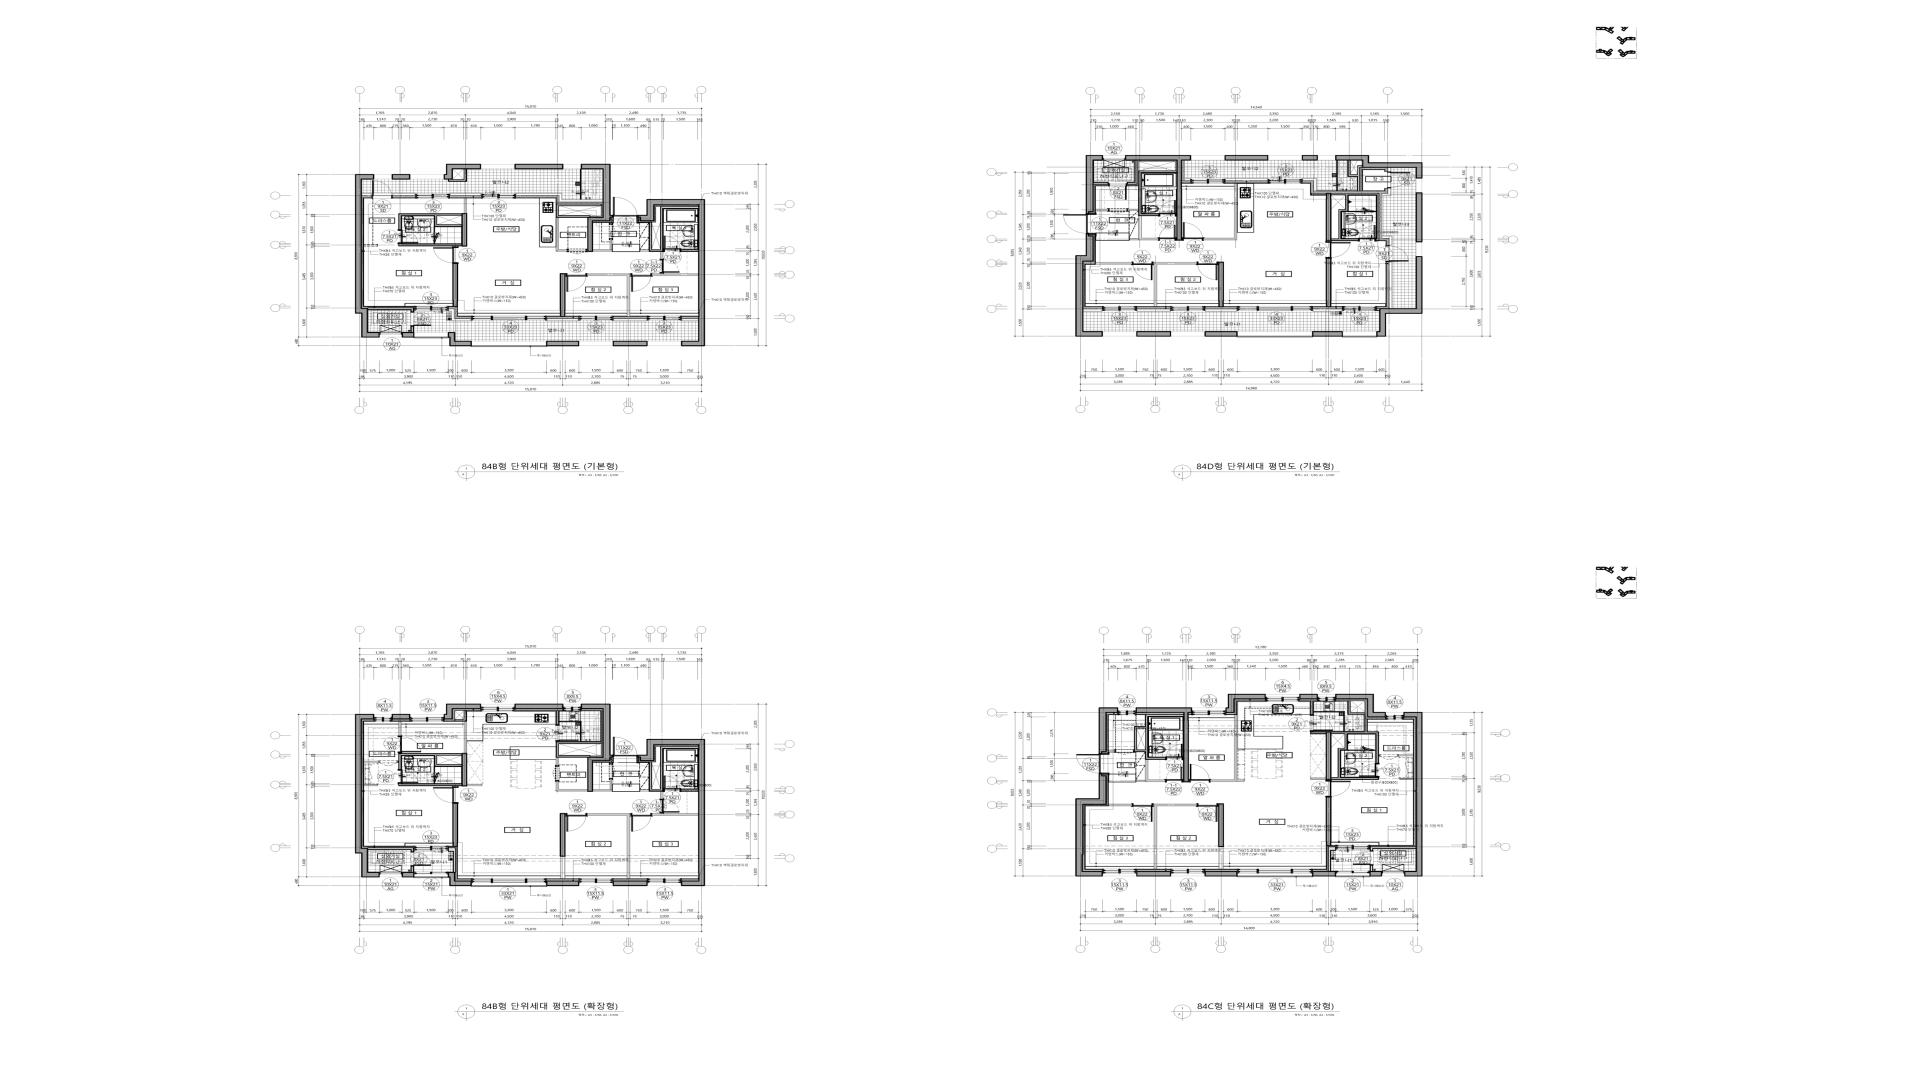door: (1063, 214, 1097, 233), (1076, 754, 1109, 774), (613, 196, 637, 218), (1325, 779, 1352, 798), (433, 786, 459, 804), (613, 737, 637, 757), (433, 247, 459, 264), (1325, 241, 1350, 258), (1197, 261, 1218, 281), (1133, 261, 1154, 281), (1182, 223, 1204, 241), (1188, 764, 1211, 782), (397, 736, 421, 753), (630, 273, 651, 291), (566, 273, 587, 291), (1197, 803, 1218, 822), (630, 814, 651, 832), (566, 814, 587, 832), (1133, 803, 1154, 822), (372, 181, 393, 199), (1387, 171, 1410, 189), (1386, 245, 1408, 262), (1309, 715, 1333, 731), (555, 725, 579, 741), (1109, 183, 1127, 200), (1353, 851, 1374, 865), (410, 852, 431, 866), (397, 769, 418, 783), (397, 229, 418, 244), (663, 775, 680, 793), (1166, 766, 1183, 783), (1166, 744, 1183, 761), (1158, 200, 1176, 216), (659, 260, 679, 274), (659, 799, 679, 814), (1358, 225, 1375, 241), (1159, 225, 1176, 241), (663, 236, 680, 252), (1360, 764, 1379, 777), (567, 249, 587, 255), (1379, 754, 1399, 760), (1114, 749, 1134, 754), (609, 764, 616, 779), (378, 761, 398, 766), (1108, 208, 1127, 214), (553, 766, 559, 781)
wall: (637, 199, 705, 347), (637, 738, 705, 886), (1125, 156, 1191, 241), (1135, 707, 1192, 782), (355, 174, 380, 338), (355, 713, 380, 877), (1377, 256, 1423, 336), (1127, 170, 1176, 240), (1134, 715, 1183, 782), (1403, 712, 1423, 877), (1075, 774, 1106, 877), (640, 746, 699, 799), (580, 164, 613, 252), (580, 704, 613, 793), (1332, 719, 1379, 779), (587, 814, 630, 878), (1154, 804, 1197, 869), (1076, 233, 1102, 336), (640, 207, 699, 252), (1332, 193, 1379, 241), (1211, 715, 1245, 782), (555, 204, 601, 252), (1336, 156, 1423, 178), (1154, 262, 1197, 306), (1204, 183, 1237, 240), (587, 274, 630, 316), (1336, 694, 1386, 717), (555, 741, 601, 766), (1085, 156, 1104, 214), (398, 753, 462, 769), (398, 214, 462, 229), (1098, 707, 1118, 754), (1225, 694, 1266, 713), (516, 193, 603, 202), (443, 164, 481, 179), (443, 704, 481, 720), (1382, 189, 1393, 245), (455, 711, 467, 753), (1348, 161, 1362, 191), (448, 332, 472, 347), (448, 872, 472, 886), (1416, 193, 1423, 243), (1325, 193, 1332, 241), (556, 781, 587, 791), (1325, 798, 1332, 845), (1325, 732, 1332, 779), (1325, 258, 1332, 306), (448, 309, 471, 322), (559, 273, 566, 316), (559, 814, 566, 857), (514, 164, 563, 169), (514, 704, 563, 709), (448, 169, 467, 182), (1218, 261, 1224, 307), (452, 264, 458, 307), (1218, 803, 1224, 847), (1225, 156, 1269, 161), (1348, 702, 1365, 715), (452, 804, 458, 847), (593, 779, 612, 791), (593, 240, 612, 252), (1127, 161, 1137, 185), (1328, 847, 1336, 872), (1303, 178, 1317, 191), (448, 848, 456, 872), (1370, 847, 1416, 851), (368, 848, 414, 852), (368, 307, 414, 311), (1389, 262, 1393, 309), (613, 342, 647, 347), (613, 881, 647, 886), (1137, 872, 1171, 877), (1204, 331, 1238, 336), (1137, 331, 1171, 336), (462, 214, 467, 247), (546, 342, 579, 347), (1205, 872, 1238, 877), (462, 753, 467, 786), (546, 881, 579, 886), (398, 783, 462, 786), (398, 244, 462, 247), (1312, 331, 1342, 336), (1184, 161, 1191, 181), (1312, 872, 1336, 877), (651, 814, 699, 816), (392, 713, 410, 720), (1218, 847, 1224, 869), (1225, 178, 1267, 181), (392, 174, 410, 179), (1299, 694, 1317, 699), (1096, 262, 1131, 265), (613, 319, 647, 322), (1137, 309, 1171, 311), (450, 193, 481, 195), (560, 857, 564, 878), (547, 319, 579, 322), (1205, 309, 1237, 311), (1302, 156, 1317, 161), (1313, 309, 1342, 311), (402, 332, 414, 338), (1370, 872, 1382, 877), (402, 872, 414, 877), (651, 274, 699, 276), (393, 193, 415, 195), (555, 711, 559, 725), (680, 789, 699, 791), (680, 249, 699, 252), (1084, 309, 1102, 311), (361, 193, 372, 196), (682, 319, 698, 322), (1311, 193, 1327, 195), (1093, 182, 1109, 185), (398, 721, 401, 736), (1311, 700, 1313, 715), (1311, 732, 1325, 735), (1109, 804, 1133, 806), (410, 326, 414, 332), (661, 252, 663, 260), (1109, 749, 1114, 753), (410, 866, 414, 872), (1399, 754, 1414, 756), (1311, 778, 1325, 779), (1399, 778, 1414, 779), (364, 761, 378, 762), (1370, 865, 1373, 872), (364, 785, 377, 786), (1096, 210, 1108, 211), (1387, 167, 1391, 171), (1377, 309, 1379, 311), (609, 762, 613, 764), (609, 223, 612, 224)
window: (1238, 869, 1312, 877), (1237, 306, 1313, 311), (471, 315, 547, 320), (1238, 332, 1312, 338), (472, 342, 546, 347), (472, 878, 546, 884), (472, 884, 546, 887), (579, 878, 613, 886), (647, 878, 680, 886), (481, 704, 514, 712), (1192, 708, 1225, 716), (414, 332, 448, 339), (414, 872, 448, 878), (1102, 869, 1137, 876), (1336, 870, 1370, 877), (410, 715, 443, 721), (1171, 869, 1204, 876), (1266, 695, 1299, 702), (1342, 306, 1377, 311), (1171, 306, 1205, 311), (1342, 332, 1377, 338), (1102, 306, 1137, 311), (579, 315, 613, 320), (647, 315, 682, 320), (414, 306, 448, 311), (481, 194, 516, 199), (415, 194, 450, 199), (414, 845, 448, 851), (410, 174, 443, 179), (1102, 332, 1137, 336), (1269, 179, 1303, 183), (1191, 179, 1225, 183), (1191, 156, 1225, 160), (579, 342, 613, 345), (563, 704, 580, 712), (1118, 708, 1135, 716), (1336, 845, 1370, 849), (1171, 332, 1204, 336), (1269, 156, 1302, 160), (647, 342, 680, 345), (481, 165, 514, 169), (1317, 695, 1336, 702), (380, 332, 402, 338), (380, 872, 402, 877), (1382, 870, 1404, 876), (375, 715, 392, 721), (1104, 156, 1125, 161), (1386, 715, 1403, 720), (375, 174, 392, 179), (1416, 178, 1422, 193), (1317, 156, 1336, 160), (1416, 243, 1422, 256), (563, 165, 580, 169)
